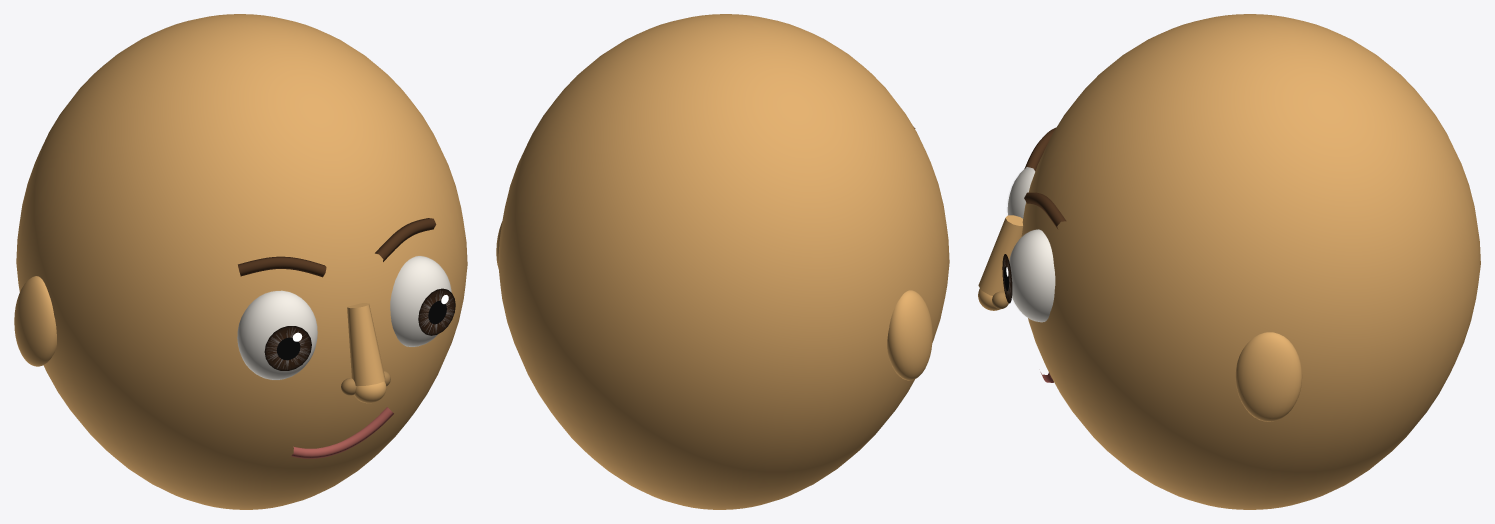
File: 05-sourire-en-coin.glb
3 views of the same model, side by side, from view 1: azimuth 30°, elevation 25°; view 2: azimuth 150°, elevation 25°; view 3: azimuth 270°, elevation 25° (orthographic).
Bounding box in the file's own units: 0.3087 × 0.321 × 0.3166.
9 materials, 1 textured.
